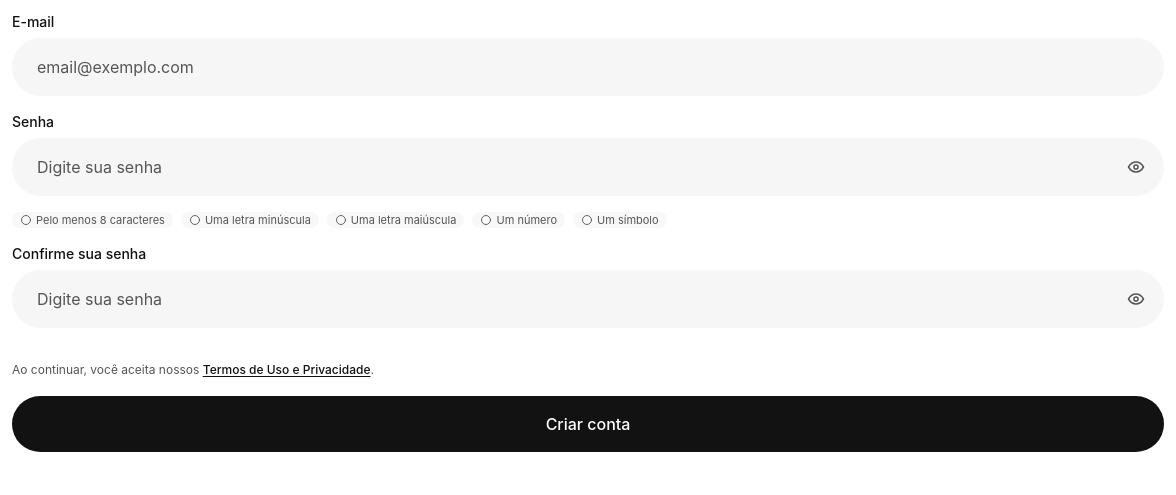
it: SignUpForm › shows the password mismatch returned by the action
Type "person@example.com" into the field labelled "E-mail" at (588, 67), box [12,38,1164,96]
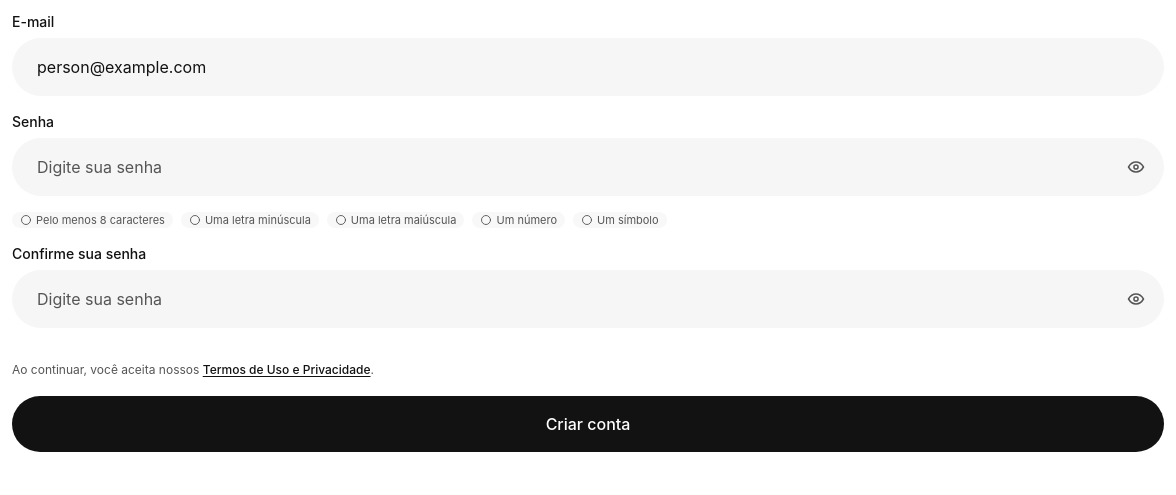
Type "Valid_password1!" into the password field labelled "Senha" at (588, 167), box [12,138,1164,196]
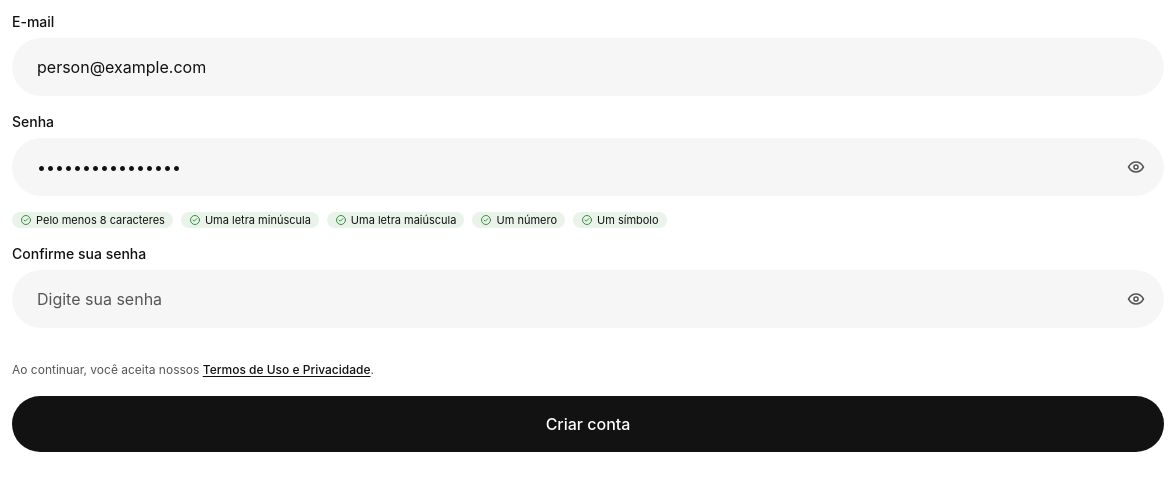
Type "Different_password1!" into the password field labelled "Confirme sua senha" at (588, 299), box [12,270,1164,328]
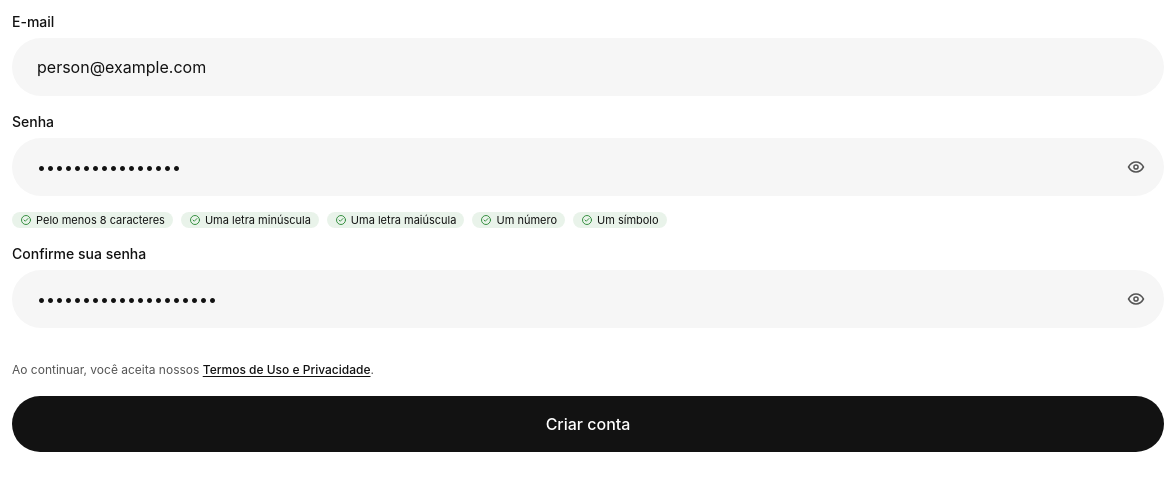
Click the button "Criar conta" at (588, 424), box [12,396,1164,452]
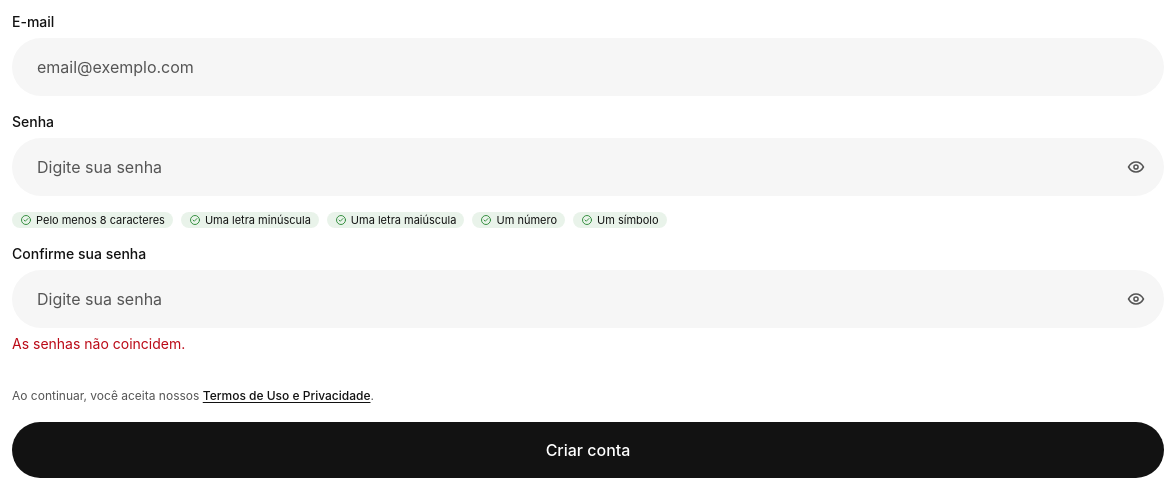
expect the message reads "As senhas não coincidem.": met, box [12,335,185,352]
